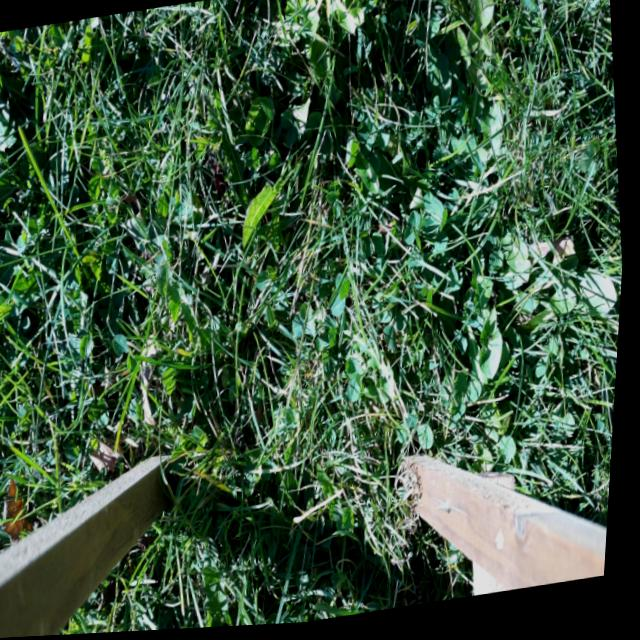flower: (301, 0, 356, 22)
